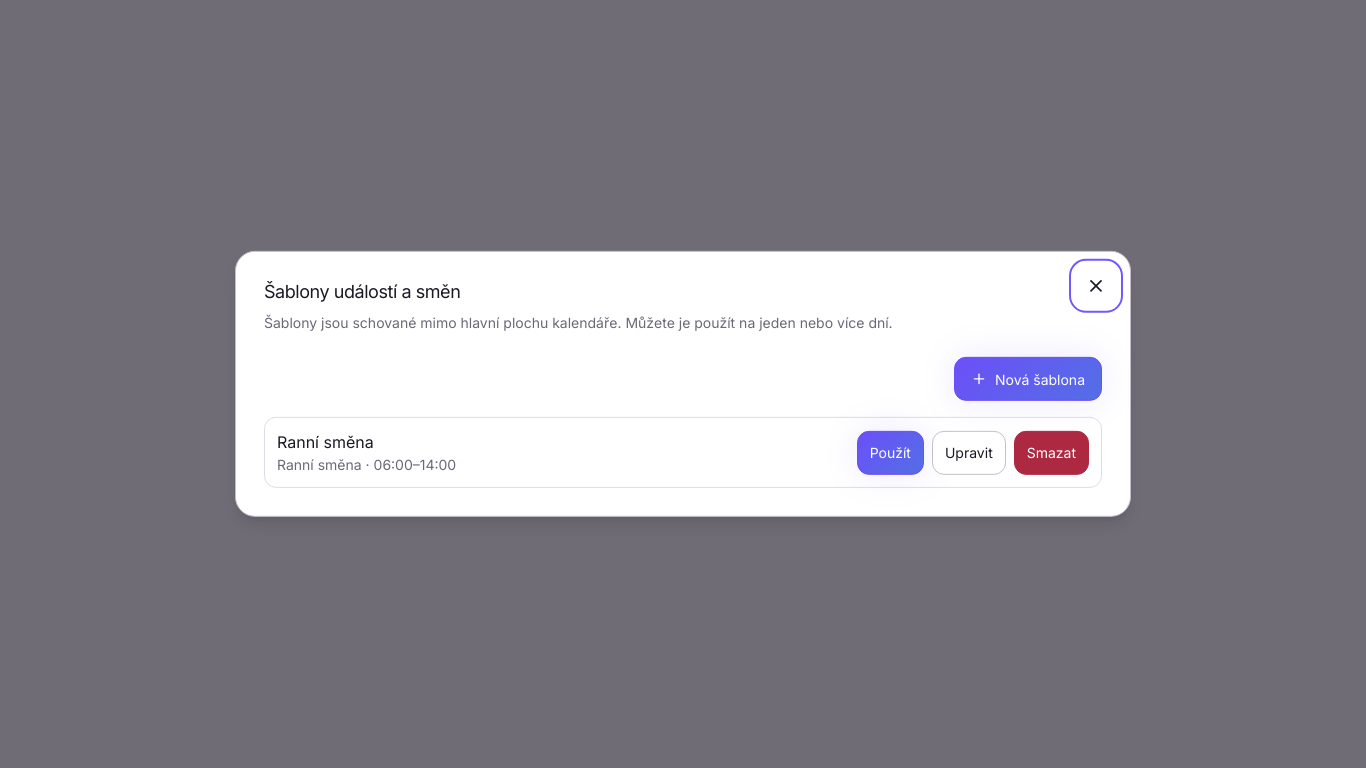
Test case: shared calendar frontend › bulk template application selects several days and shows the batch preview count
Step 1. Click the button "Použít" → {"x": 890, "y": 453}, box [857,431,924,475]
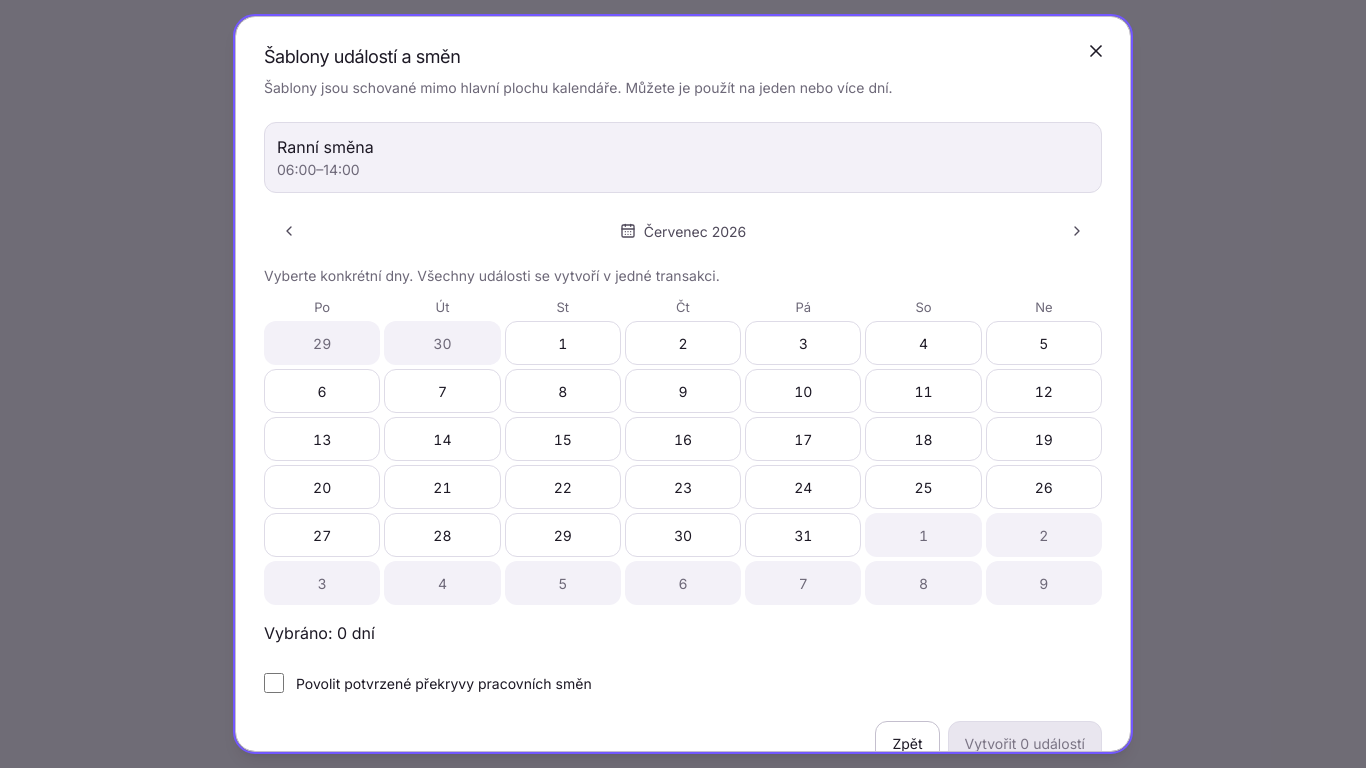
Step 2. Click the button "1" → {"x": 563, "y": 343}, box [505,321,621,365]
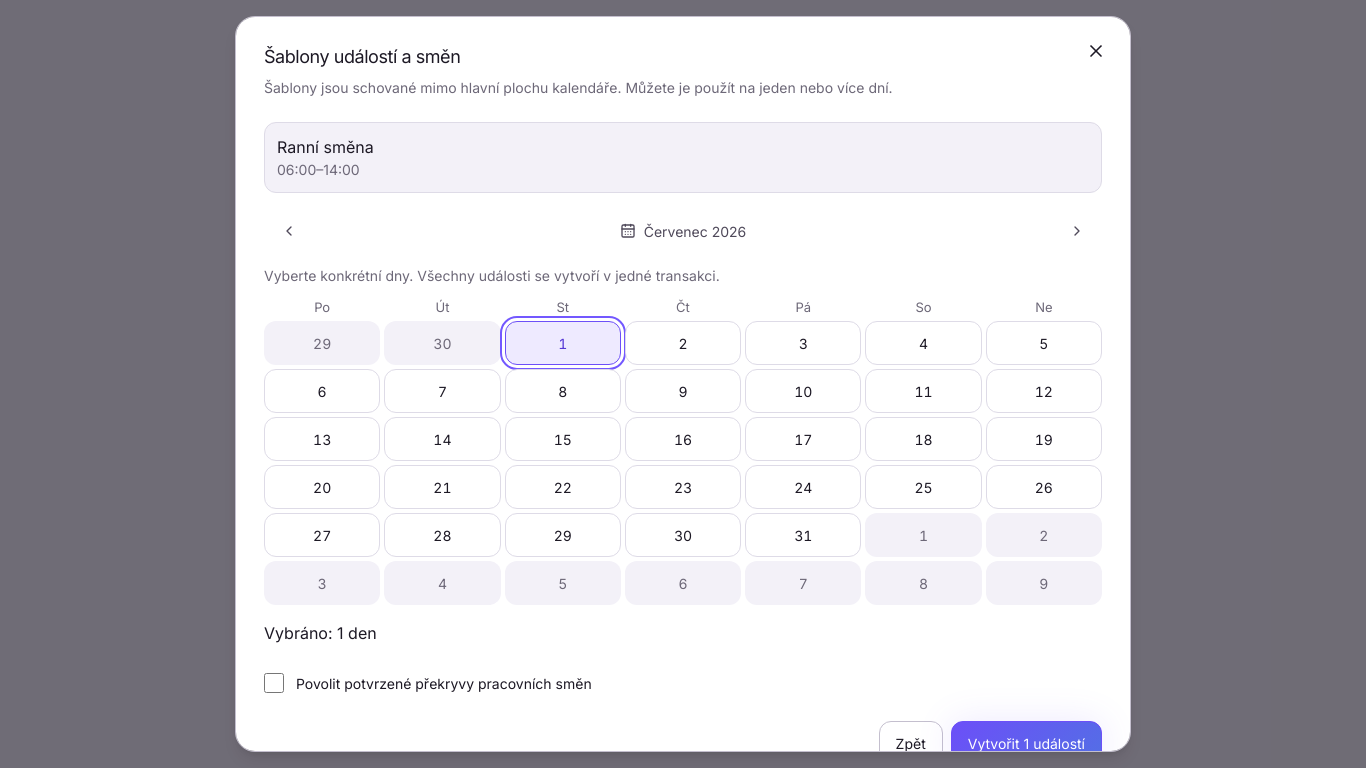
Step 3. Click the button "3" → {"x": 803, "y": 343}, box [745,321,861,365]
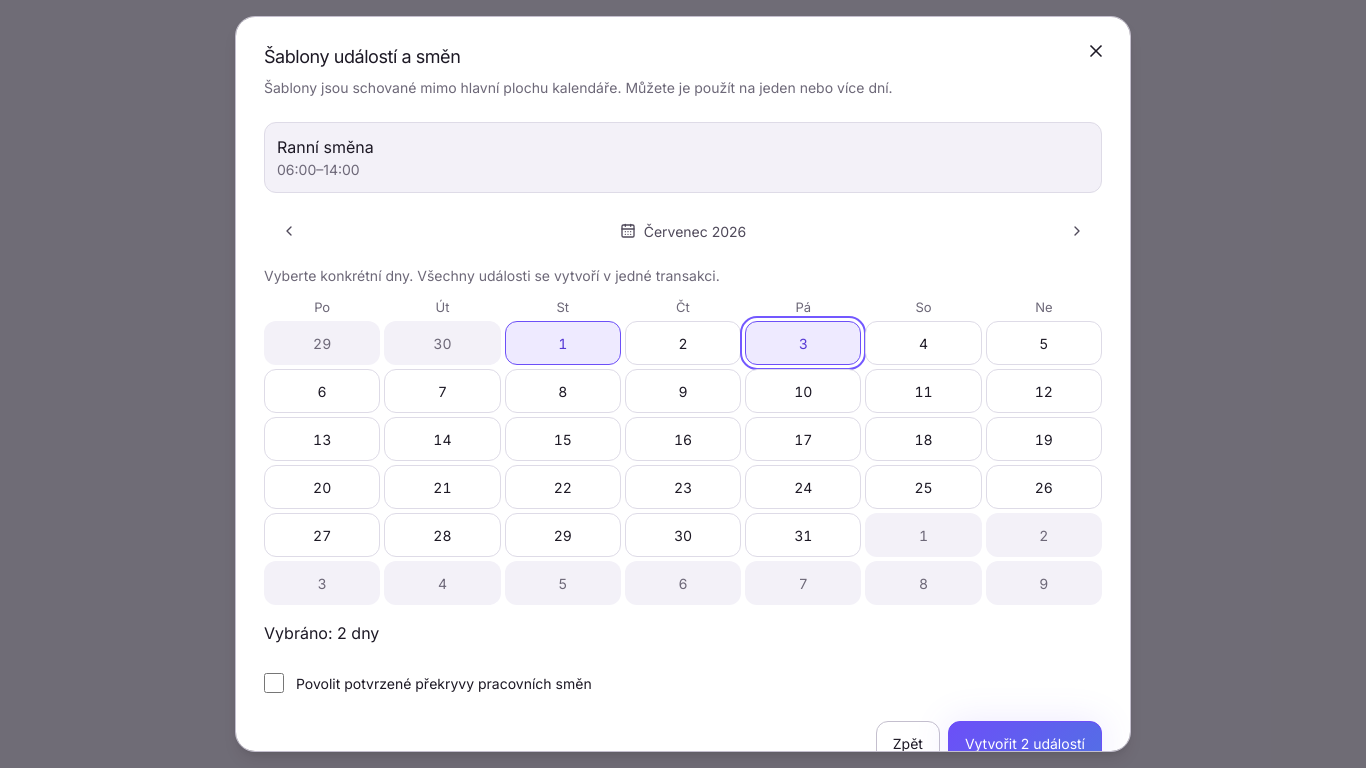
Now the button "Vytvořit 2 událostí" is enabled, box [948,721,1102,752]
Now the text "Vybráno: 2 dny" is shown, box [264,623,379,643]
